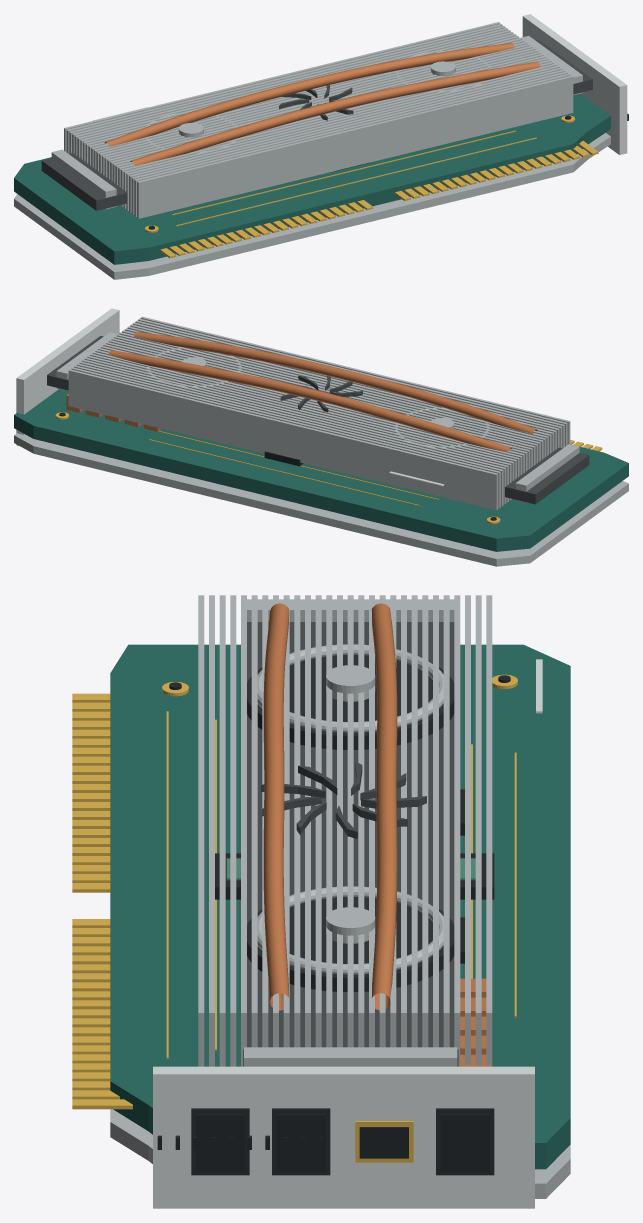
File: graphics-card.glb
3 renders of one model, top to bottom at view 1: azimuth 30°, elevation 25°; view 2: azimuth 150°, elevation 25°; view 3: azimuth 270°, elevation 25°, orthographic. The views are drawn at different scales.
Visible parts, largest first — view 1: gpu-pcb · precision outline, gpu-cooler · fin 01, gpu-backplate · shaped plate, gpu-cooler · continuous heat pipe A, gpu-cooler · continuous heat pipe B, gpu-ports · I/O bracket, gpu-cooler · left shroud, gpu-cooler · fin 03, gpu-cooler · fin 04, gpu-cooler · fin 02, gpu-cooler · fin 05, gpu-cooler · fin 06 (+26 smaller); view 2: gpu-pcb · precision outline, gpu-cooler · fin 28, gpu-backplate · shaped plate, gpu-cooler · continuous heat pipe A, gpu-cooler · continuous heat pipe B, gpu-ports · I/O bracket, gpu-cooler · left shroud, gpu-cooler · fin 25, gpu-cooler · fin 27, gpu-cooler · fin 26, gpu-cooler · fin 01, gpu-cooler · fin 24 (+26 smaller); view 3: gpu-pcb · precision outline, gpu-ports · I/O bracket, gpu-cooler · right shroud, gpu-cooler · left shroud, gpu-cooler · continuous heat pipe B, gpu-cooler · continuous heat pipe A, gpu-fan-01 · fan frame, gpu-fan-02 · fan frame, gpu-cooler · end rail 4.72, gpu-cooler · fin 01, gpu-cooler · fin 03, gpu-cooler · fin 04 (+39 smaller).
Part boxes in pixels (box(x1,y1,x2,y2)): gpu-pcb · precision outline: box(14, 93, 610, 264); gpu-cooler · fin 01: box(137, 75, 573, 218); gpu-backplate · shaped plate: box(14, 133, 610, 279); gpu-cooler · continuous heat pipe A: box(130, 61, 540, 165); gpu-cooler · continuous heat pipe B: box(104, 43, 514, 146); gpu-ports · I/O bracket: box(522, 14, 627, 154); gpu-cooler · left shroud: box(41, 153, 127, 210); gpu-cooler · fin 03: box(131, 71, 567, 214); gpu-cooler · fin 04: box(129, 69, 565, 212); gpu-cooler · fin 02: box(134, 73, 570, 216); gpu-cooler · fin 05: box(126, 67, 562, 210); gpu-cooler · fin 06: box(123, 65, 559, 208); gpu-pcb · precision outline: box(14, 389, 628, 551); gpu-cooler · fin 28: box(68, 369, 498, 510); gpu-backplate · shaped plate: box(14, 433, 628, 566); gpu-cooler · continuous heat pipe A: box(134, 331, 537, 433); gpu-cooler · continuous heat pipe B: box(108, 350, 511, 452); gpu-ports · I/O bracket: box(16, 308, 119, 445); gpu-cooler · left shroud: box(505, 447, 589, 504); gpu-cooler · fin 25: box(76, 363, 506, 504); gpu-cooler · fin 27: box(71, 367, 500, 508); gpu-cooler · fin 26: box(74, 365, 503, 506); gpu-cooler · fin 01: box(140, 316, 570, 444); gpu-cooler · fin 24: box(79, 361, 508, 502); gpu-pcb · precision outline: box(110, 644, 570, 1169); gpu-ports · I/O bracket: box(153, 1066, 534, 1208); gpu-cooler · right shroud: box(243, 854, 458, 1066); gpu-cooler · left shroud: box(247, 622, 454, 827); gpu-cooler · continuous heat pipe B: box(371, 603, 397, 1010); gpu-cooler · continuous heat pipe A: box(263, 603, 289, 1010); gpu-fan-01 · fan frame: box(247, 655, 454, 749); gpu-fan-02 · fan frame: box(247, 897, 454, 991); gpu-cooler · end rail 4.72: box(244, 1047, 457, 1066); gpu-cooler · fin 01: box(198, 595, 204, 1066); gpu-cooler · fin 03: box(219, 595, 225, 1066); gpu-cooler · fin 04: box(230, 595, 236, 1066).
Bounding box in the file's own units: 10.56 × 1.81 × 4.44.
